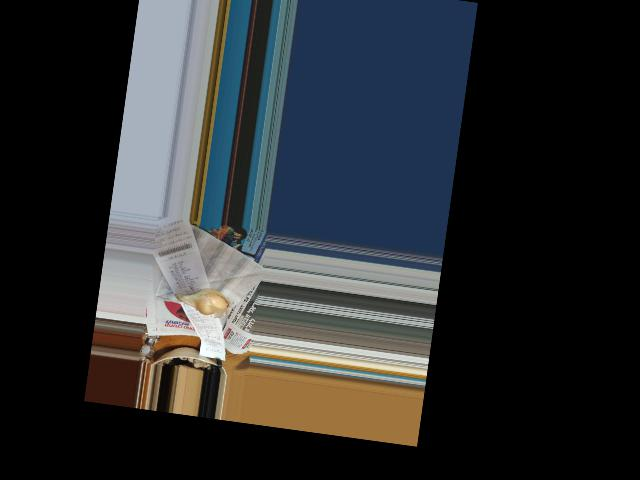onion: (185, 287, 228, 315)
